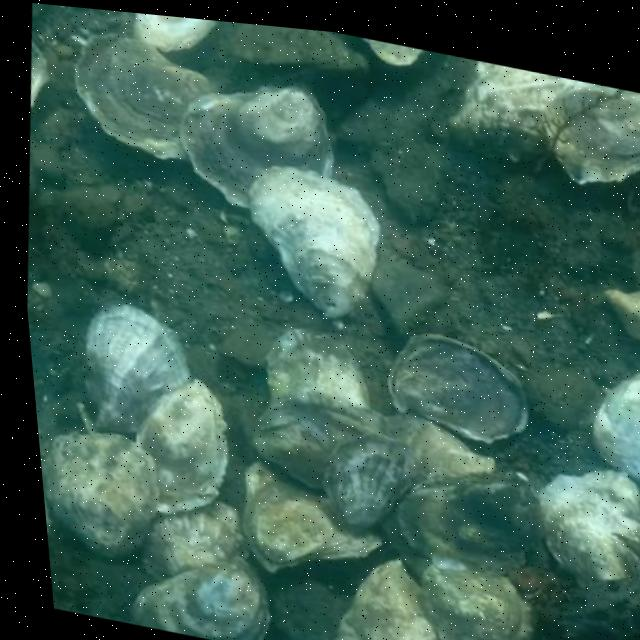Oyster-Closed: (387, 333, 529, 441), (229, 23, 366, 83)
Oyster-Indeterminate: (249, 167, 381, 320), (72, 33, 219, 162), (179, 86, 332, 207), (243, 457, 382, 570), (42, 433, 162, 561), (399, 472, 543, 572), (84, 305, 194, 433), (450, 61, 581, 161), (251, 389, 387, 484), (134, 382, 226, 513), (130, 557, 270, 640), (539, 471, 640, 583), (541, 82, 640, 185), (323, 434, 419, 533), (421, 563, 541, 640), (143, 502, 255, 579), (337, 558, 442, 640), (382, 412, 497, 485), (265, 330, 370, 408), (591, 376, 640, 481), (362, 38, 425, 65), (608, 290, 640, 341)
